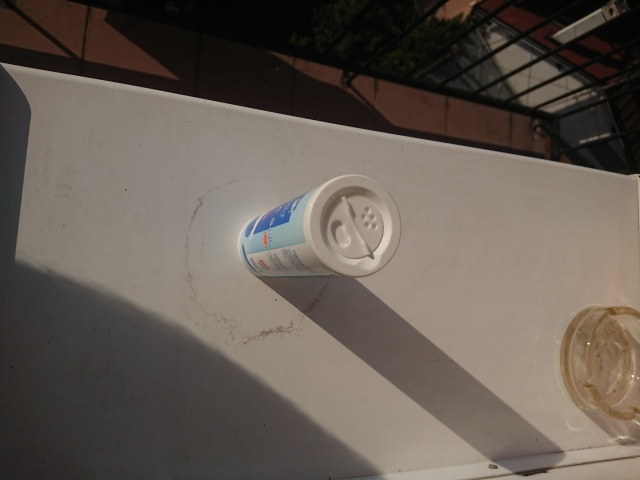Solana Pag Fine Sea Salt 250g: (235, 172, 404, 280)
